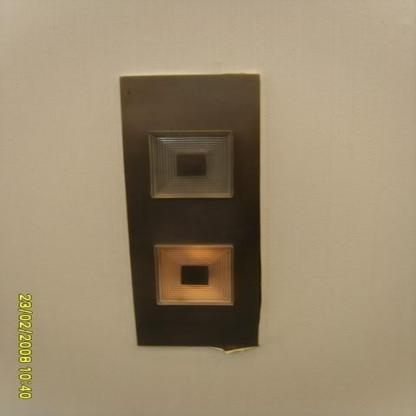empty: (172, 150, 208, 178), (178, 263, 210, 286)
